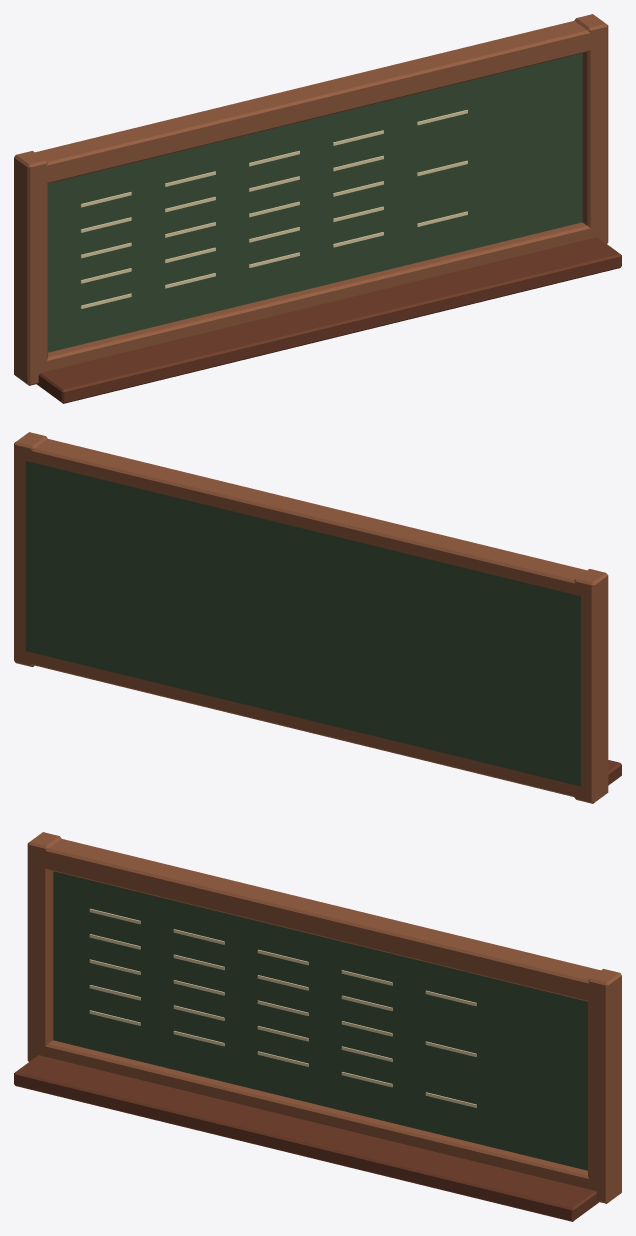
The model's file is chalkboard_01.glb.
The picture shows the model from 3 angles, top to bottom: view 1: azimuth 30°, elevation 25°; view 2: azimuth 150°, elevation 25°; view 3: azimuth 330°, elevation 25°; orthographic projection.
Parts seen in each view (by area): view 1: Slate, Tray, Rail_001, Rail, Stile, Stile_001; view 2: Slate, Rail_001, Rail, Stile, Stile_001; view 3: Slate, Tray, Rail_001, Rail, Stile_001, Stile.
Part boxes in pixels (x1,y1,x2,y2): Slate: (48, 53, 582, 352); Tray: (37, 237, 621, 403); Rail_001: (15, 21, 608, 186); Rail: (27, 222, 608, 382); Stile: (14, 151, 47, 385); Stile_001: (574, 14, 608, 243); Slate: (25, 461, 580, 786); Rail_001: (15, 439, 608, 604); Rail: (14, 642, 608, 800); Stile: (574, 569, 608, 803); Stile_001: (14, 432, 47, 666); Slate: (53, 871, 587, 1170); Tray: (14, 1055, 598, 1221); Rail_001: (28, 839, 621, 1004); Rail: (28, 1040, 621, 1199); Stile_001: (588, 969, 621, 1203); Stile: (27, 832, 61, 1061).
Bounding box in the file's own units: 2.8 × 1.03 × 0.33.
